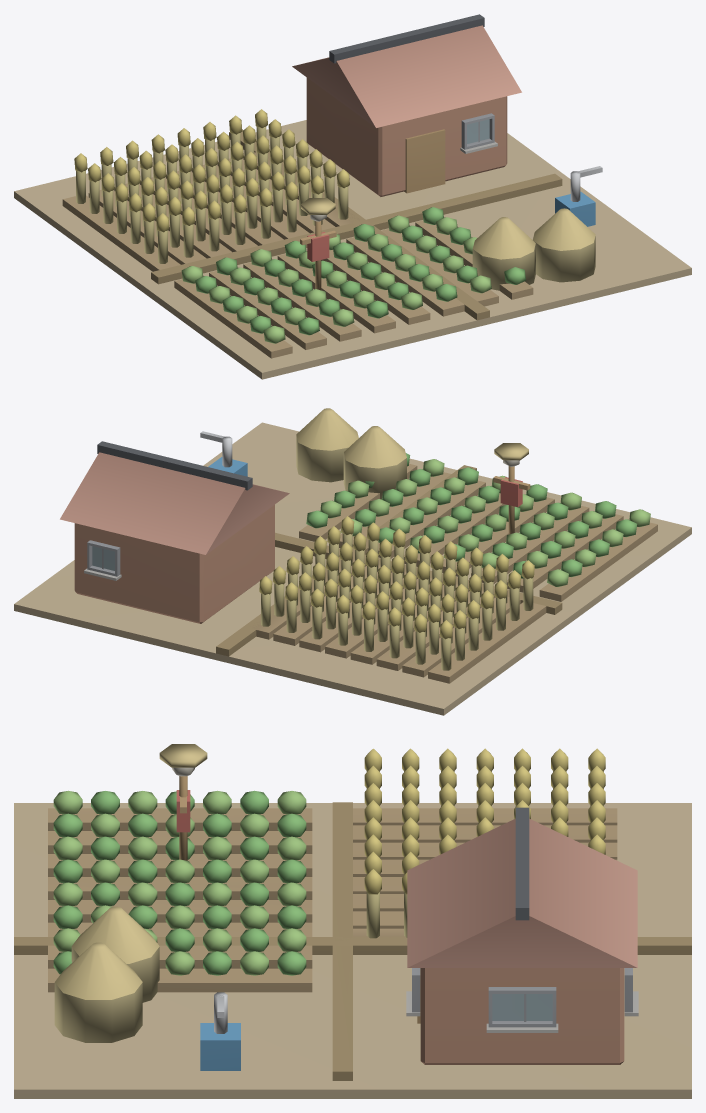
The model's file is farm.glb.
The picture shows the model from 3 angles, top to bottom: view 1: azimuth 30°, elevation 25°; view 2: azimuth 150°, elevation 25°; view 3: azimuth 270°, elevation 25°; orthographic projection. The views are drawn at different scales.
Visible parts, largest first — view 1: farm; view 2: farm; view 3: farm.
Part boxes in pixels (bbox=[...]): farm: bbox=[14, 14, 691, 379]; farm: bbox=[14, 408, 691, 715]; farm: bbox=[14, 744, 691, 1098].
Bounding box in the file's own units: 2 × 0.57 × 2.
